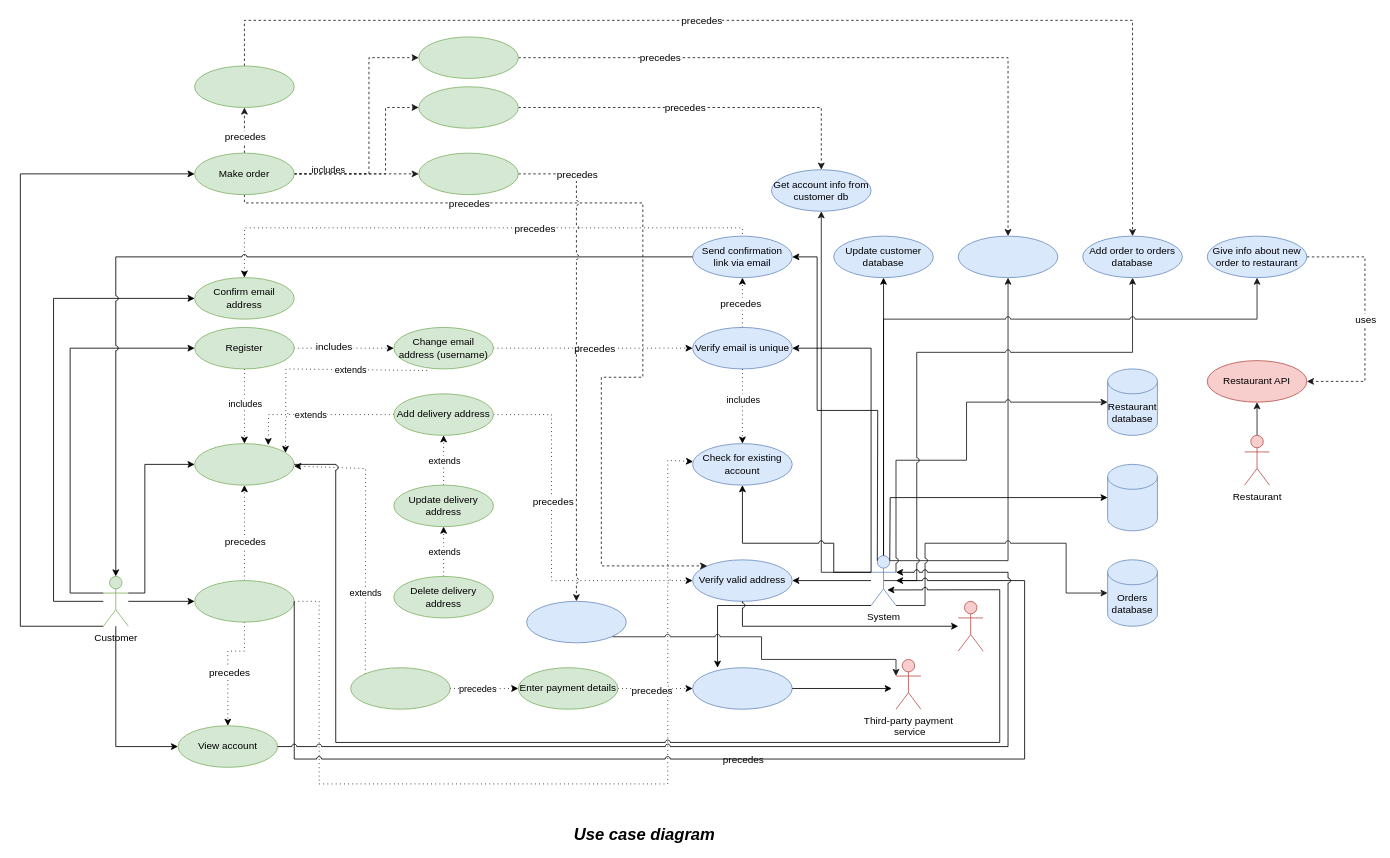
Some shapes in this 1390 by 858 pixel diagram are drawn without their labels. Here are the shapes that lost their labels. From the top down, the centre of each, then its label:
point (468, 57): Choose restaurant & dishes
point (244, 86): Verify order
point (468, 107): Choose delivery address
point (468, 173): Payment
point (1007, 256): Verify restaurant database
point (244, 464): Update account details
point (1132, 497): Customer database
point (244, 601): Login
point (576, 622): Precede payment
point (970, 626): MAP API
point (400, 688): Add payment method
point (742, 688): Verify credit card details
